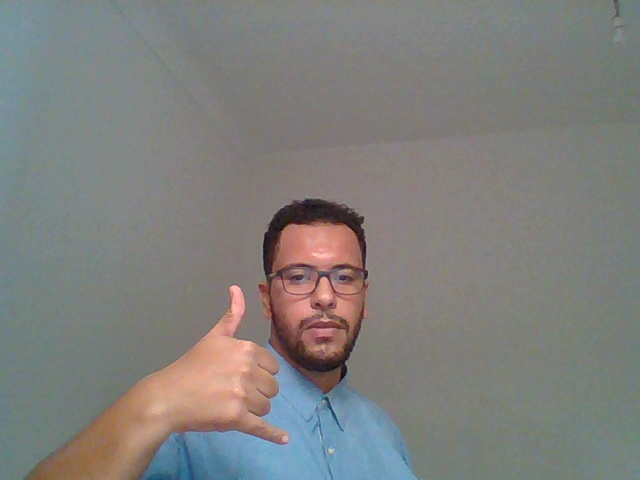callme: (122, 249, 291, 467)
